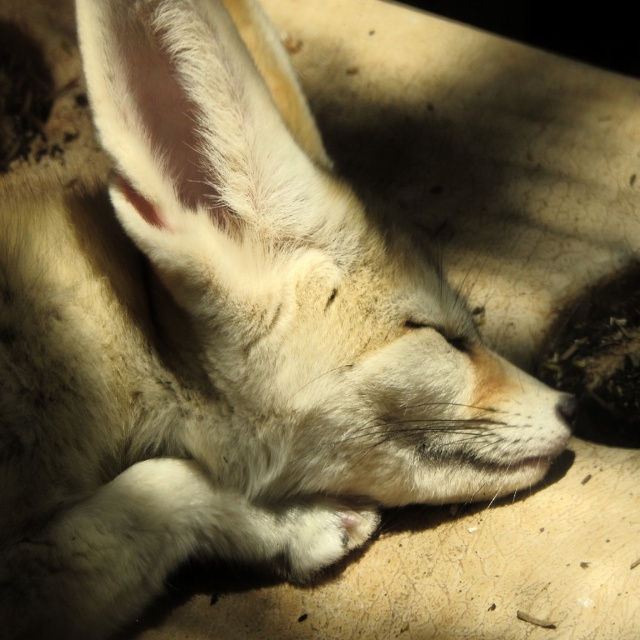Fox: (1, 0, 580, 639)
